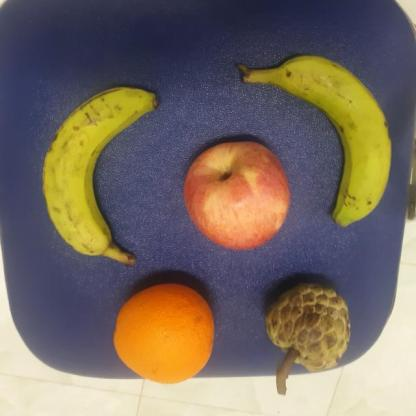annona: (262, 283, 354, 372)
apple: (181, 137, 291, 252)
banana: (240, 58, 394, 229), (40, 88, 160, 266)
orange: (114, 280, 217, 384)
